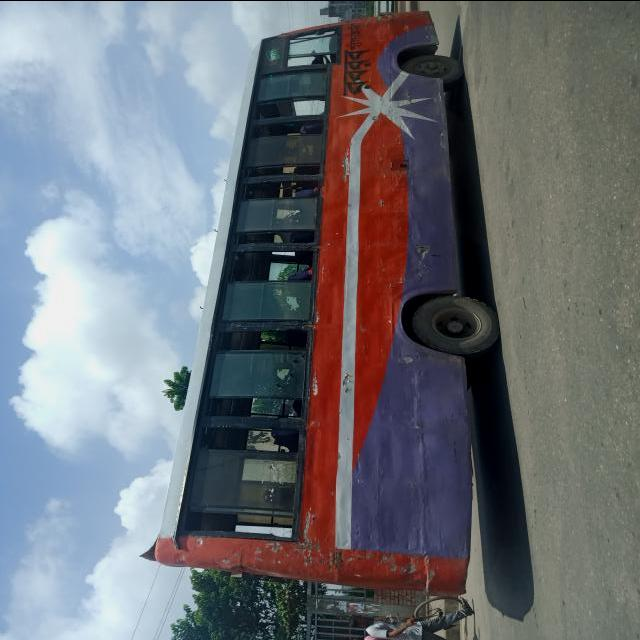bus: (144, 10, 504, 595)
